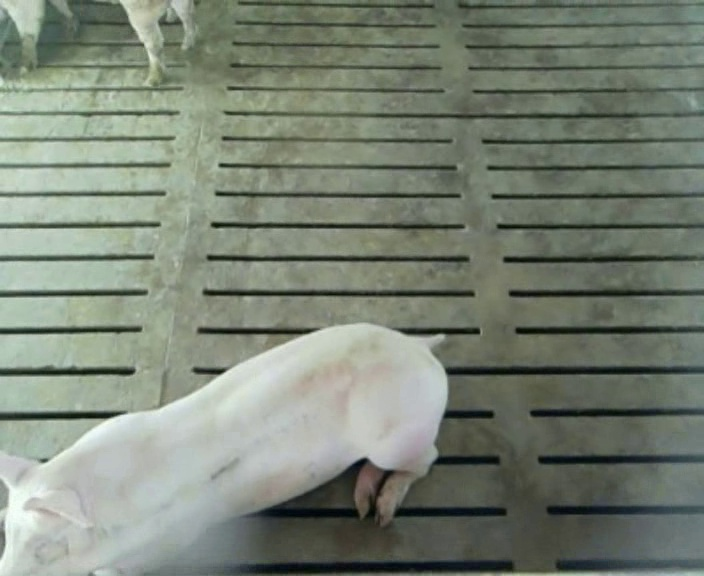pig: (0, 323, 447, 573)
